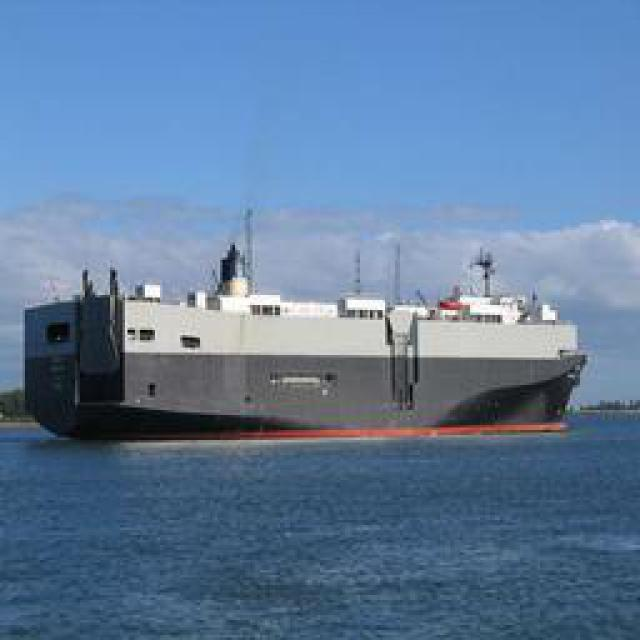Ship: (21, 230, 596, 443)
